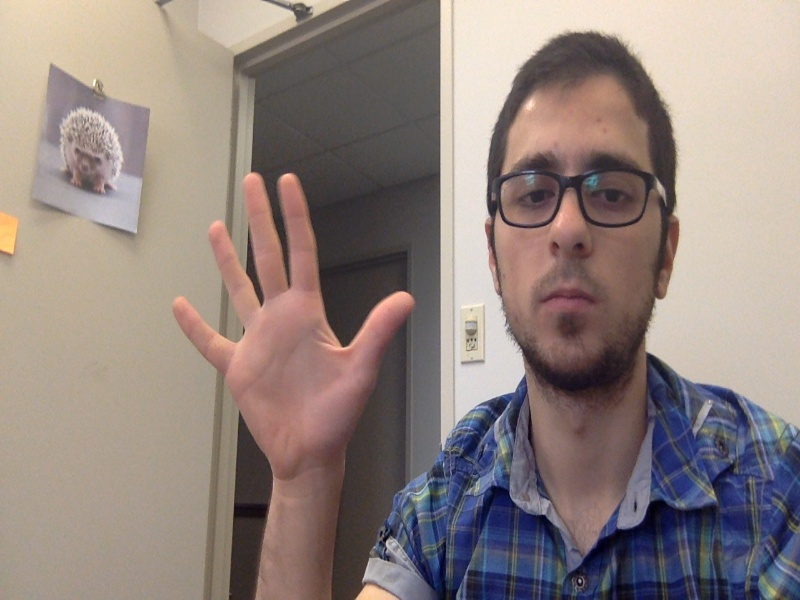5-hand: (169, 170, 415, 468)
